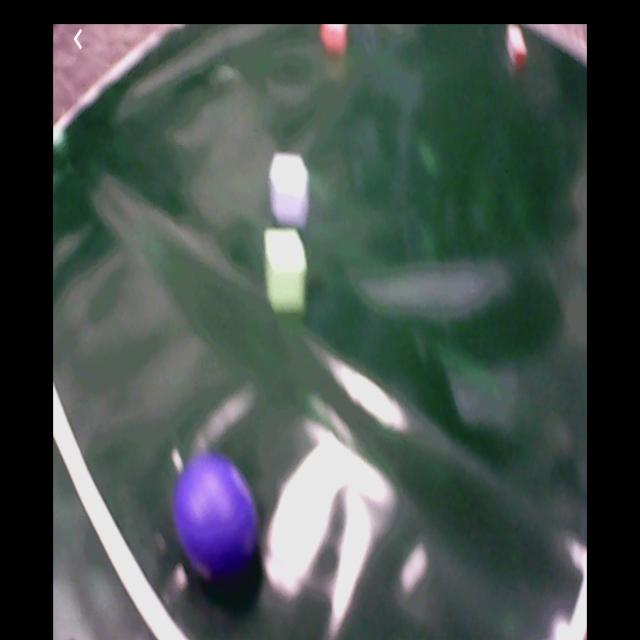ball: (176, 453, 261, 579)
